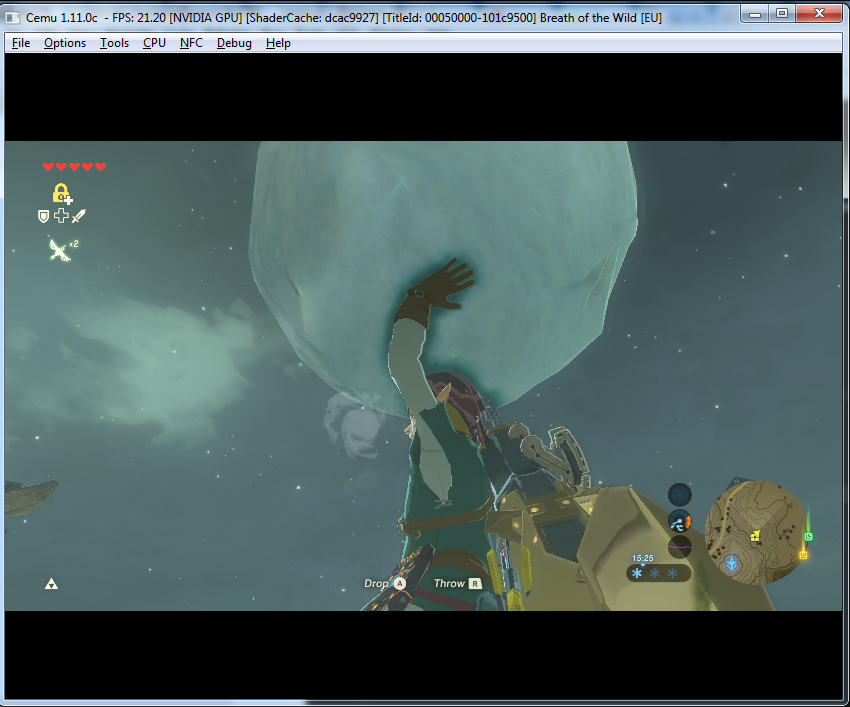link: (388, 256, 537, 611)
snowball: (245, 141, 643, 420)
